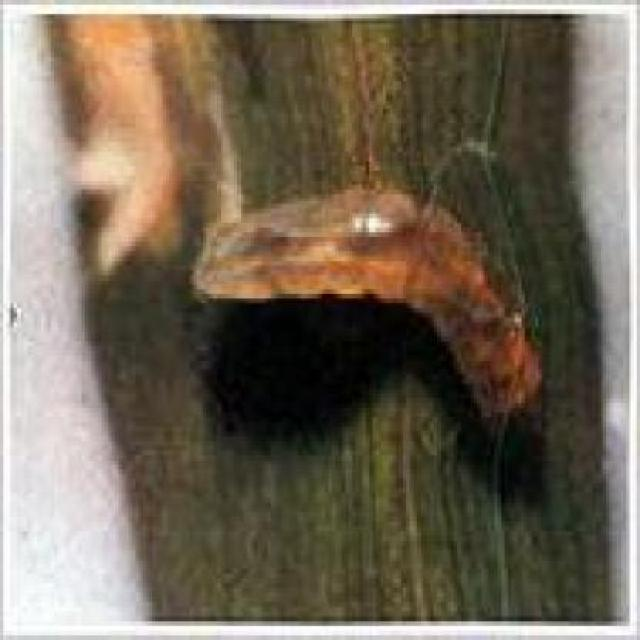whorl-maggot: (196, 186, 547, 418)
